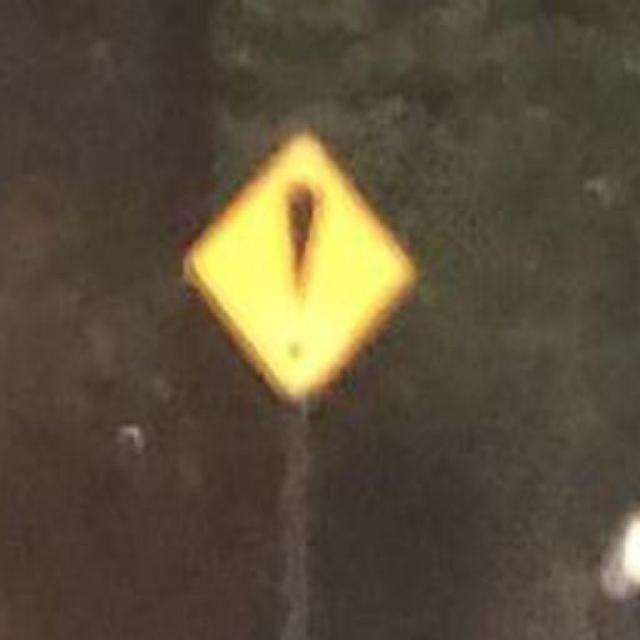traffic sign: (186, 141, 420, 403)
